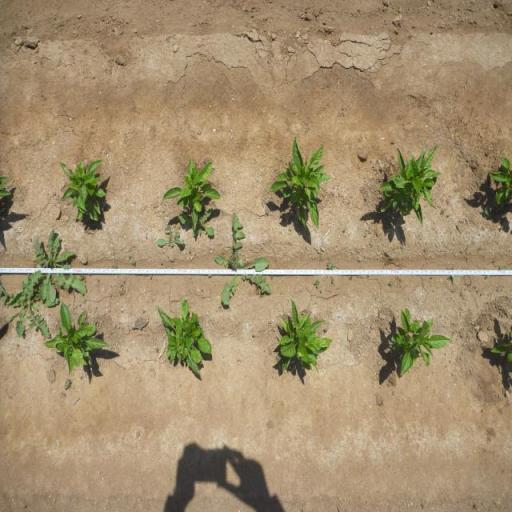plant: (268, 132, 332, 230), (377, 139, 442, 227), (389, 304, 454, 380), (158, 298, 215, 382), (48, 303, 116, 373), (280, 296, 334, 378), (160, 153, 223, 212), (56, 156, 110, 223), (489, 154, 512, 206)
weed: (214, 211, 273, 306), (0, 271, 58, 339), (36, 227, 90, 298), (177, 207, 217, 242), (155, 226, 184, 248), (446, 264, 456, 286), (480, 205, 490, 217), (312, 278, 322, 290), (64, 377, 72, 391), (327, 260, 335, 270), (78, 274, 88, 282), (276, 352, 282, 364), (330, 276, 336, 286), (388, 278, 394, 288), (440, 208, 447, 216), (498, 266, 512, 270), (364, 193, 370, 201), (348, 275, 354, 282), (446, 212, 452, 218), (264, 210, 270, 216), (269, 274, 274, 281), (111, 264, 118, 269), (155, 347, 160, 353), (131, 260, 136, 265), (324, 327, 328, 332), (486, 274, 490, 279), (128, 254, 130, 260)
